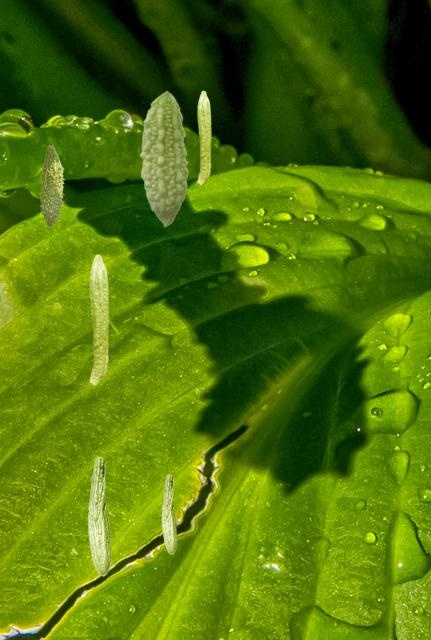ampalaya: (139, 90, 189, 227), (87, 456, 111, 576), (89, 254, 109, 385), (38, 144, 65, 227), (196, 90, 211, 185), (161, 474, 177, 555)
